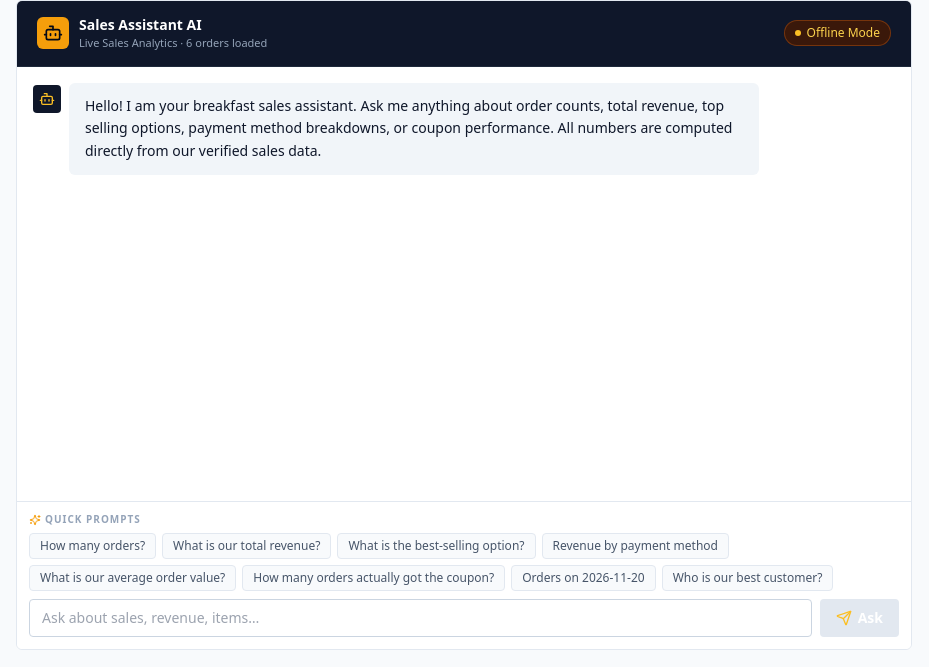
Scenario: Step 09: Sales Assistant AI & Function Calling (TC-18, TC-19, TC-20) › AssistantChat UI renders suggestion chips and responds to prompt clicks
The image size is (929, 667).
Expected: the text "Hello! I am your breakfast sales assistant" is shown, [85,96,736,160]
What coordinates should you click on to do the following:
click the button "How many orders?"
I would click on:
 (93, 546)
Its box is [29,533,156,559].
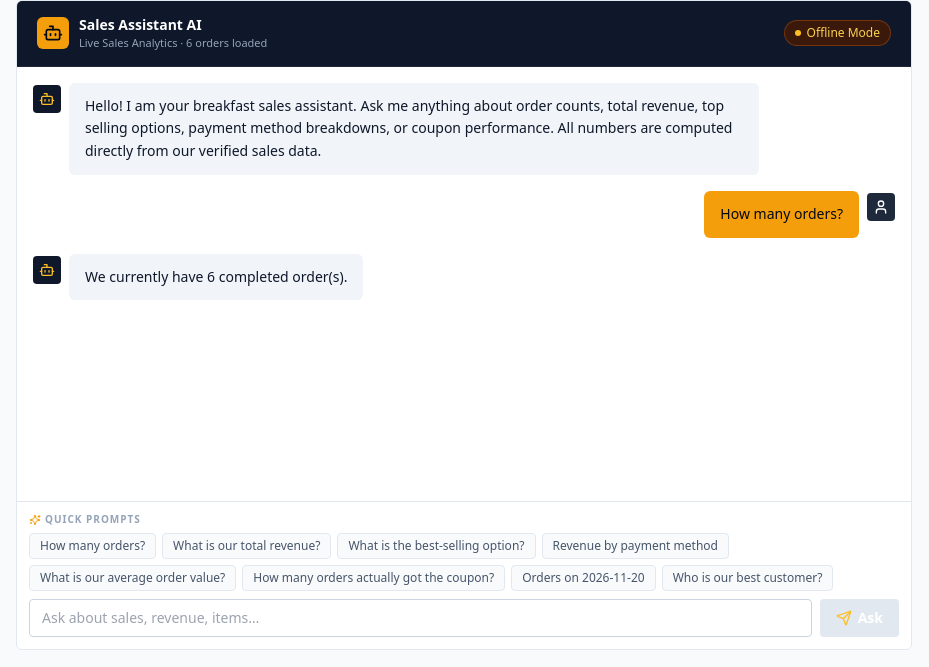
Now the text "We currently have 6 completed order(s)." is shown, box [85,266,348,288]
